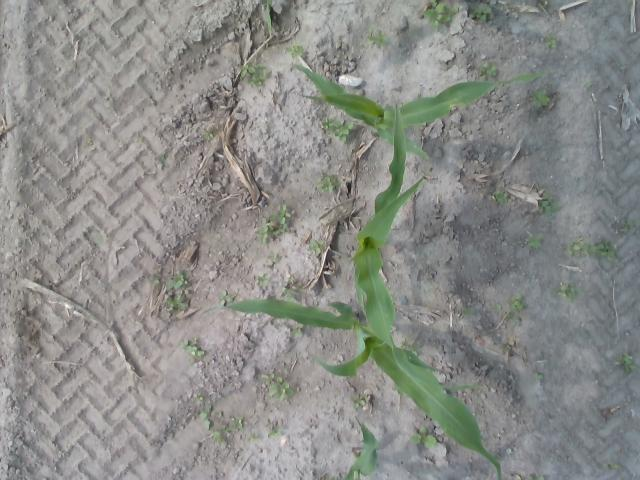Maize: (201, 300, 504, 480), (350, 95, 497, 394), (292, 65, 538, 161), (342, 417, 400, 480), (262, 0, 276, 37)
Weeds: (422, 0, 460, 26), (262, 374, 293, 400), (413, 428, 438, 448), (332, 118, 352, 142), (164, 271, 189, 290), (588, 241, 614, 258), (269, 205, 290, 224), (182, 338, 203, 356), (616, 354, 634, 374), (166, 294, 187, 311), (256, 220, 272, 242), (532, 88, 550, 107), (318, 175, 339, 191), (369, 32, 389, 48), (472, 6, 492, 22), (202, 405, 214, 430), (568, 241, 585, 258), (554, 284, 576, 296), (509, 295, 524, 310), (540, 196, 554, 212), (228, 418, 244, 432), (479, 64, 497, 76), (310, 238, 324, 253), (239, 64, 255, 77), (354, 392, 366, 408), (291, 44, 303, 58), (256, 274, 270, 286), (213, 428, 227, 440), (620, 219, 632, 233), (156, 156, 168, 168), (250, 76, 263, 87), (322, 116, 332, 130), (291, 325, 303, 336), (271, 224, 284, 234), (546, 36, 556, 48), (498, 193, 508, 204), (463, 306, 474, 316), (532, 238, 542, 248), (217, 290, 225, 302), (269, 253, 279, 262), (606, 463, 618, 470), (533, 372, 543, 380), (150, 276, 160, 284), (269, 429, 277, 437), (196, 394, 204, 402), (206, 132, 214, 140), (87, 138, 93, 145)
